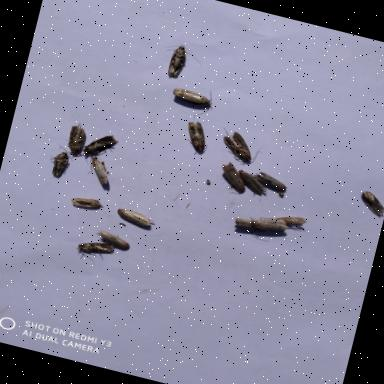pbw: (156, 34, 206, 89), (240, 207, 296, 250), (74, 142, 122, 192), (159, 78, 221, 116), (172, 115, 218, 163), (219, 127, 270, 169), (73, 124, 124, 164), (222, 210, 280, 244), (72, 232, 123, 270), (228, 164, 278, 202), (211, 154, 255, 196), (249, 162, 297, 200), (109, 202, 162, 236), (41, 140, 78, 186), (56, 117, 94, 161), (270, 204, 314, 237), (59, 189, 109, 217), (90, 226, 137, 254), (353, 183, 384, 219)
